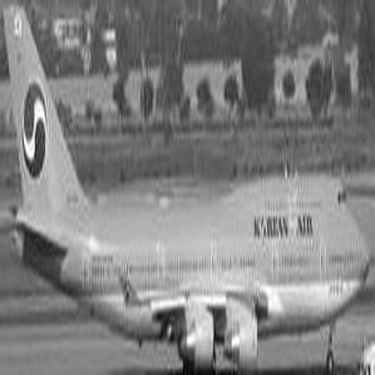airplane: (2, 2, 373, 370)
